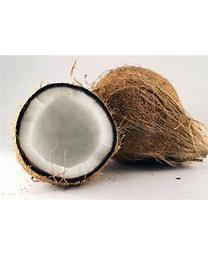coconut: (9, 80, 123, 187), (89, 64, 205, 164)
